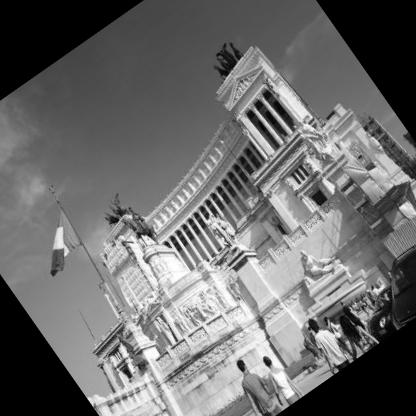car: (350, 283, 414, 347)
